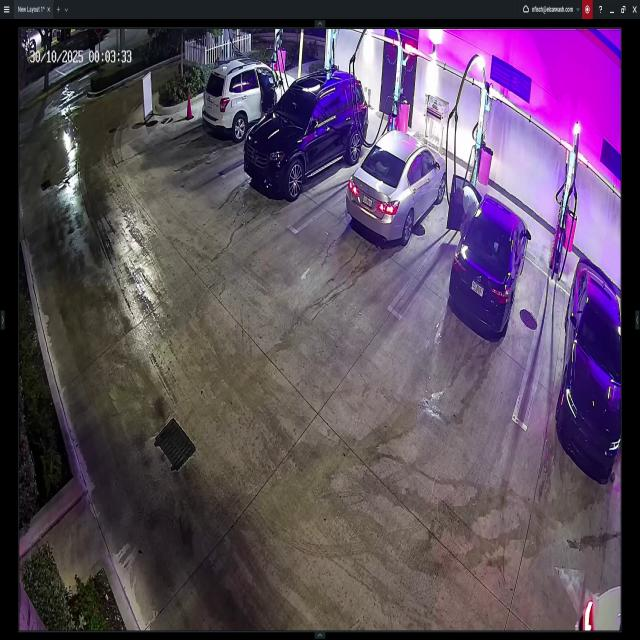Car: (244, 68, 368, 195), (555, 258, 621, 472), (447, 174, 529, 337), (346, 130, 447, 242), (202, 58, 296, 138)
